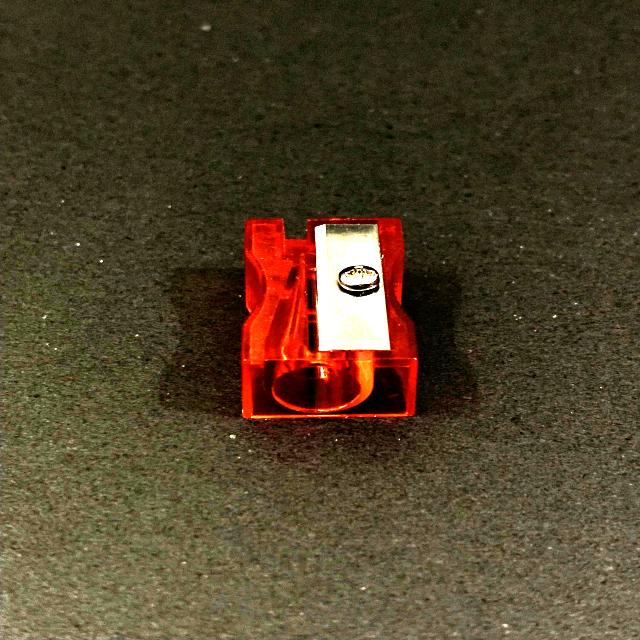Sharpner: (178, 185, 467, 448)
